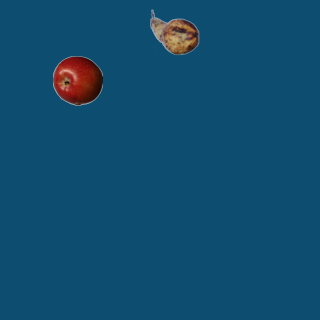Apple Braeburn: (52, 55, 102, 105)
Pear Abate: (149, 7, 199, 57)
